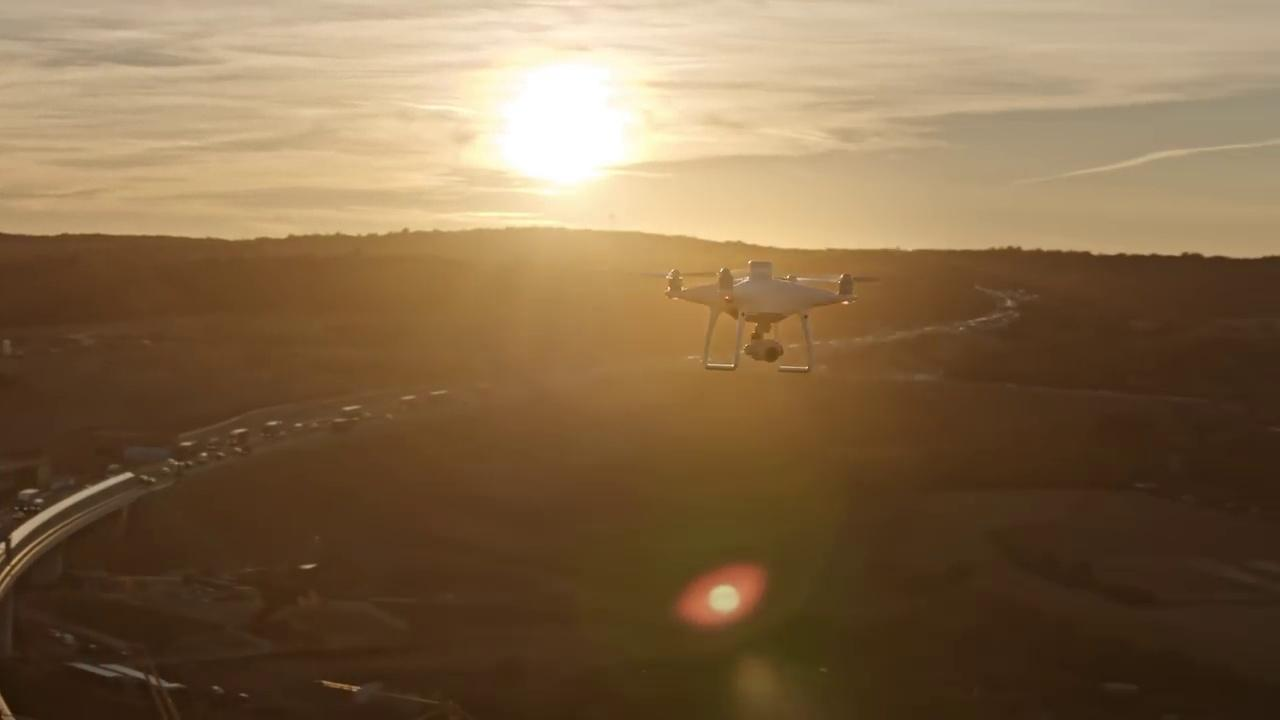drone: (630, 255, 882, 377)
